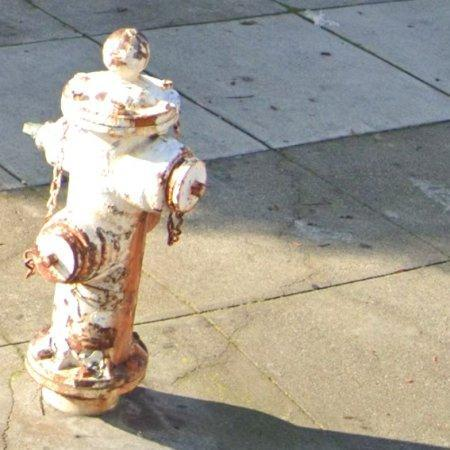a fire hydrant: (23, 28, 207, 415)
